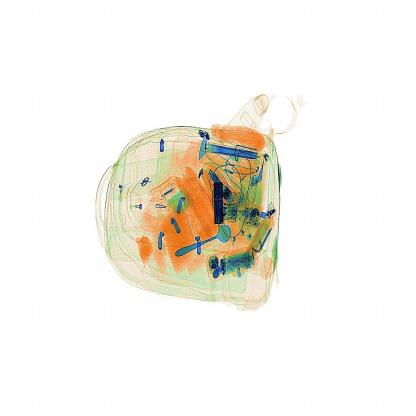scissors: (209, 170, 241, 230)
